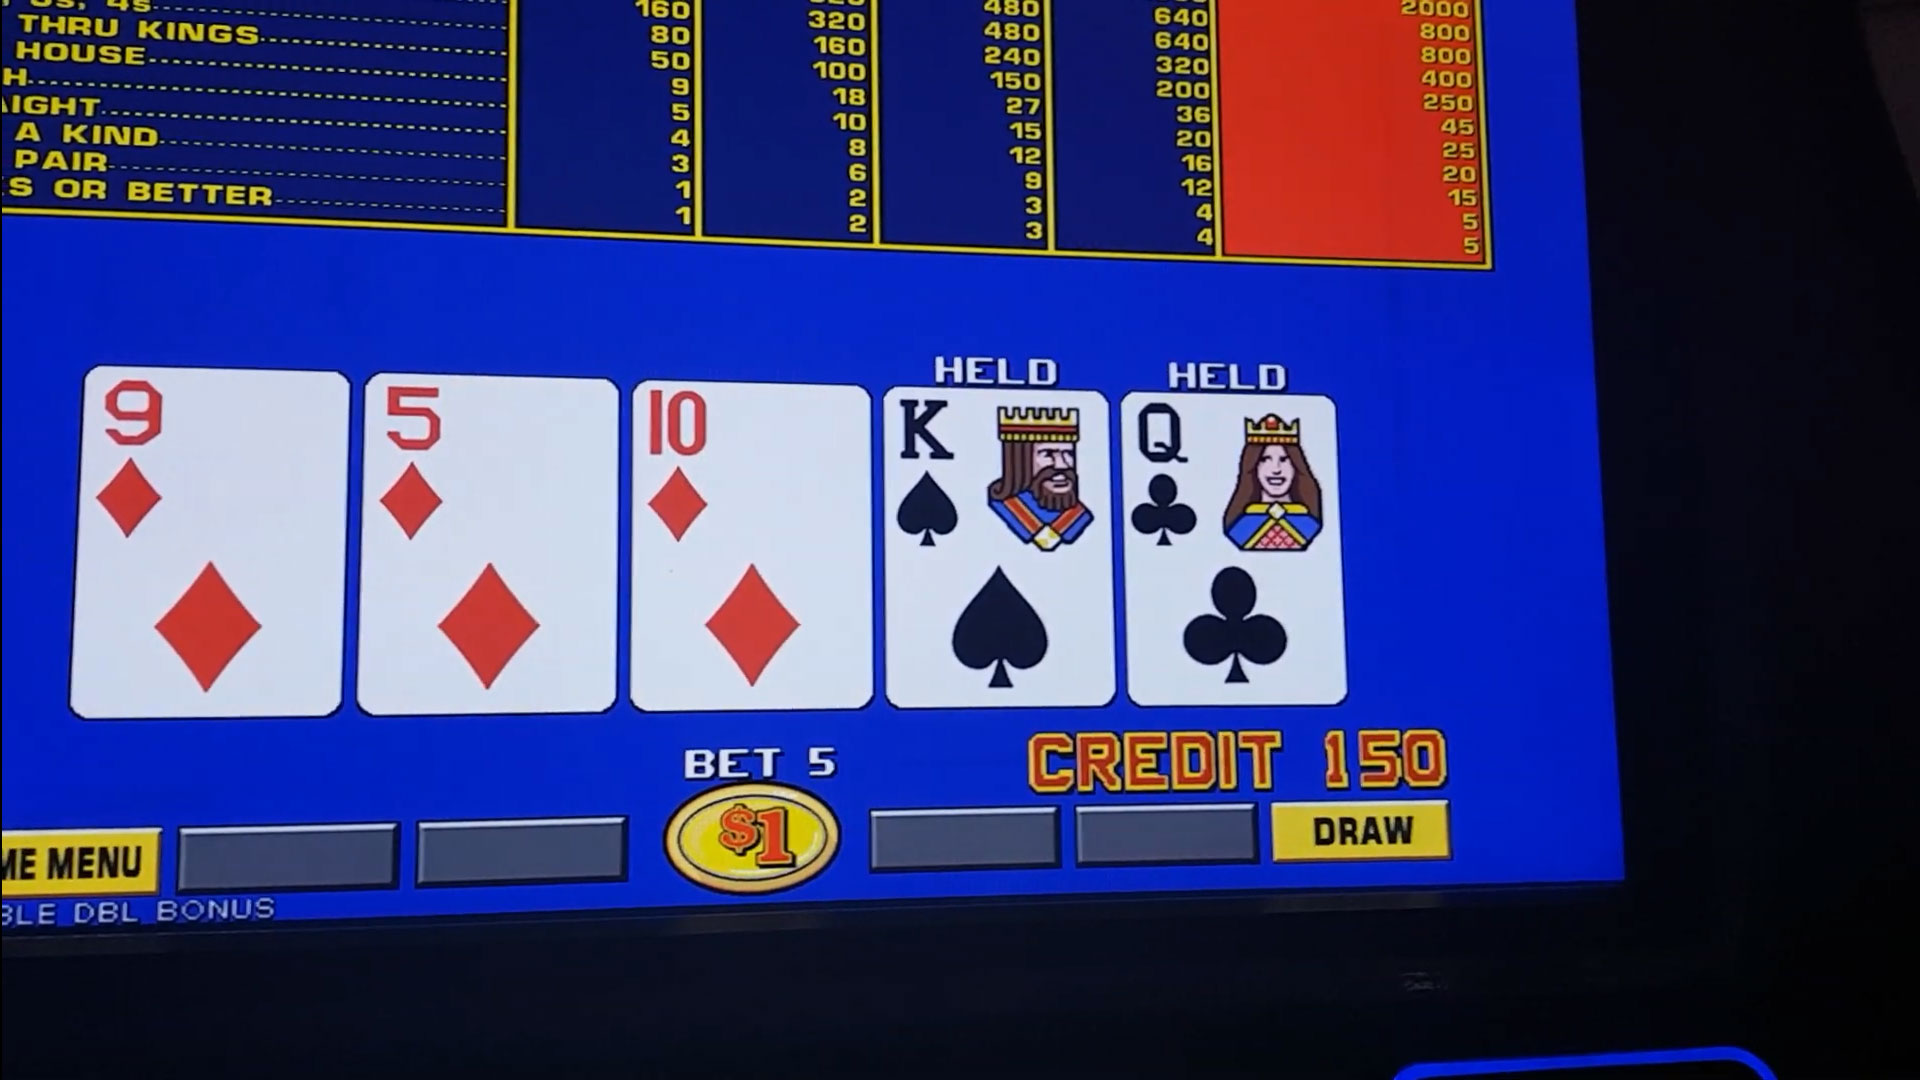CQ: (1126, 400, 1335, 559)
D5: (369, 380, 618, 558)
D9: (90, 373, 345, 555)
DT: (633, 388, 862, 559)
SK: (891, 394, 1106, 564)
